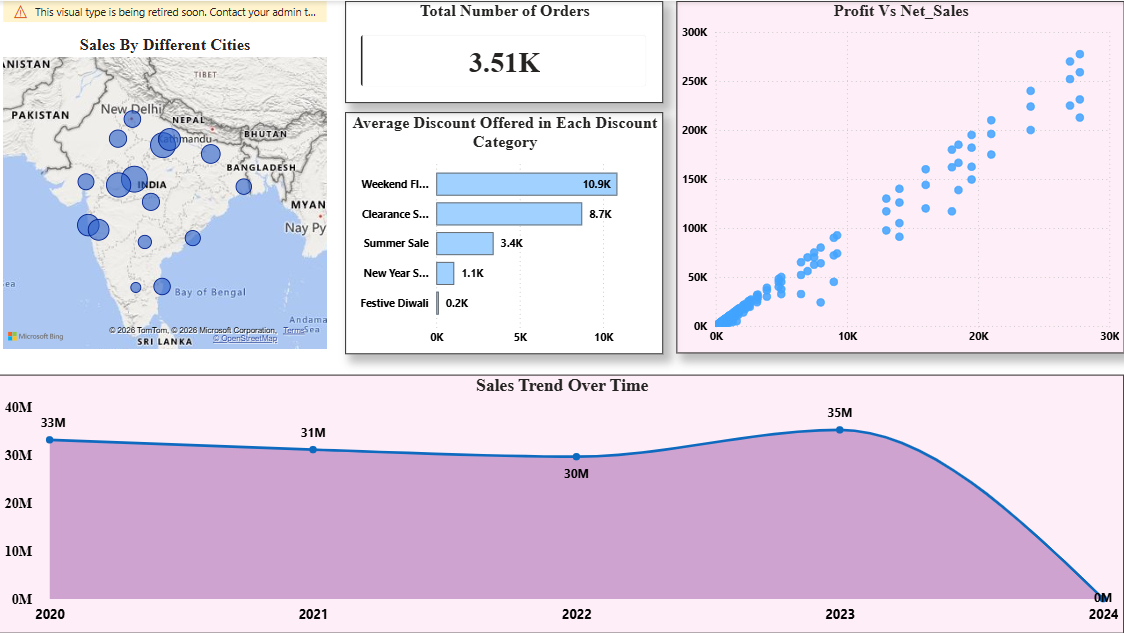

This screenshot's page, from the dashboard's own definition file:
{"tool":"powerbi","page":{"name":"Overview","canvas":[1280,720],"ordinal":0},"visuals":[{"type":"lineChart","title":"Sales Trend Over Time ","fields":{"Category":["Date Table 1.Date.Variation.Date Hierarchy.Year","Date Table 1.Date.Variation.Date Hierarchy.Quarter","Date Table 1.Date.Variation.Date Hierarchy.Month","Date Table 1.Date.Variation.Date Hierarchy.Day","FactTable.Date (dd/mm/yyyy)"],"Y":["Sum(FactTable.Total_Sales)"]},"box":[0,425.6,1279.7,294.3],"z":0},{"type":"scatterChart","title":"Profit Vs Net_Sales","fields":{"X":["FactTable.Profit"],"Y":["FactTable.Net_Sales"]},"box":[770.4,0,509.9,401.1],"z":1000},{"type":"barChart","title":"Average Discount Offered in Each Discount Category","fields":{"Category":["Dim Promotion.Promotion Name"],"Y":["Avg(FactTable.Discount_Value)"]},"box":[393.8,126,362,275.1],"z":2000},{"type":"map","title":"Sales By Different Cities","fields":{"Category":["Dim Customers.City"],"Size":["Sum(FactTable.Net_Sales)"]},"box":[0,0,377.9,401.1],"z":3000},{"type":"cardVisual","title":"Total Number of Orders","fields":{"Data":["CountNonNull(FactTable.OrderID)"]},"box":[393.8,0,362,116.2],"z":4000}]}

Visuals, with their boxes in screenshot pixels (x1, y1, x2, y2), scaled from the page's 1280x720 canvas onto the 1124x633 screenshot:
"Sales Trend Over Time " lineChart: bbox=[0, 374, 1123, 632]
"Profit Vs Net_Sales" scatterChart: bbox=[677, 0, 1123, 353]
"Average Discount Offered in Each Discount Category" barChart: bbox=[346, 111, 664, 353]
"Sales By Different Cities" map: bbox=[0, 0, 332, 353]
"Total Number of Orders" cardVisual: bbox=[346, 0, 664, 102]
